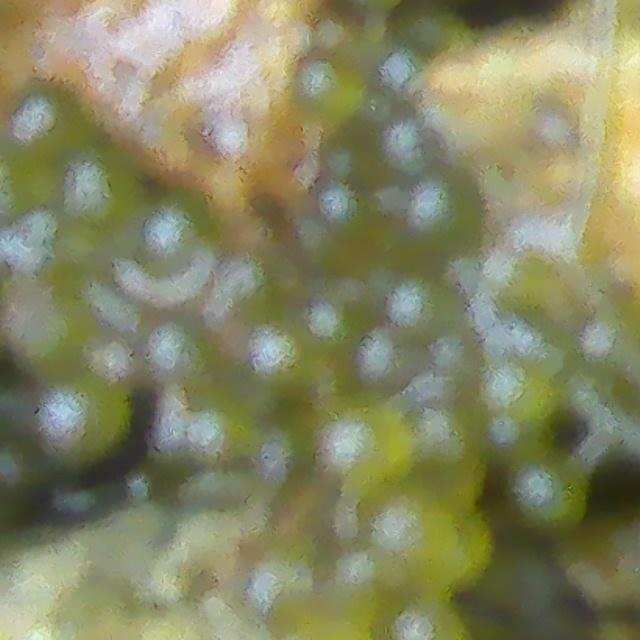SeaGrape: (322, 402, 412, 489), (376, 498, 464, 578), (408, 175, 491, 258), (37, 389, 134, 457), (67, 152, 141, 232), (144, 193, 215, 276), (7, 80, 82, 158), (417, 412, 485, 494), (244, 317, 317, 388), (18, 305, 96, 371), (300, 51, 370, 122), (389, 283, 464, 342), (479, 360, 554, 418), (519, 464, 585, 522), (194, 411, 262, 458), (0, 144, 45, 215), (297, 300, 356, 353), (321, 192, 374, 244)
